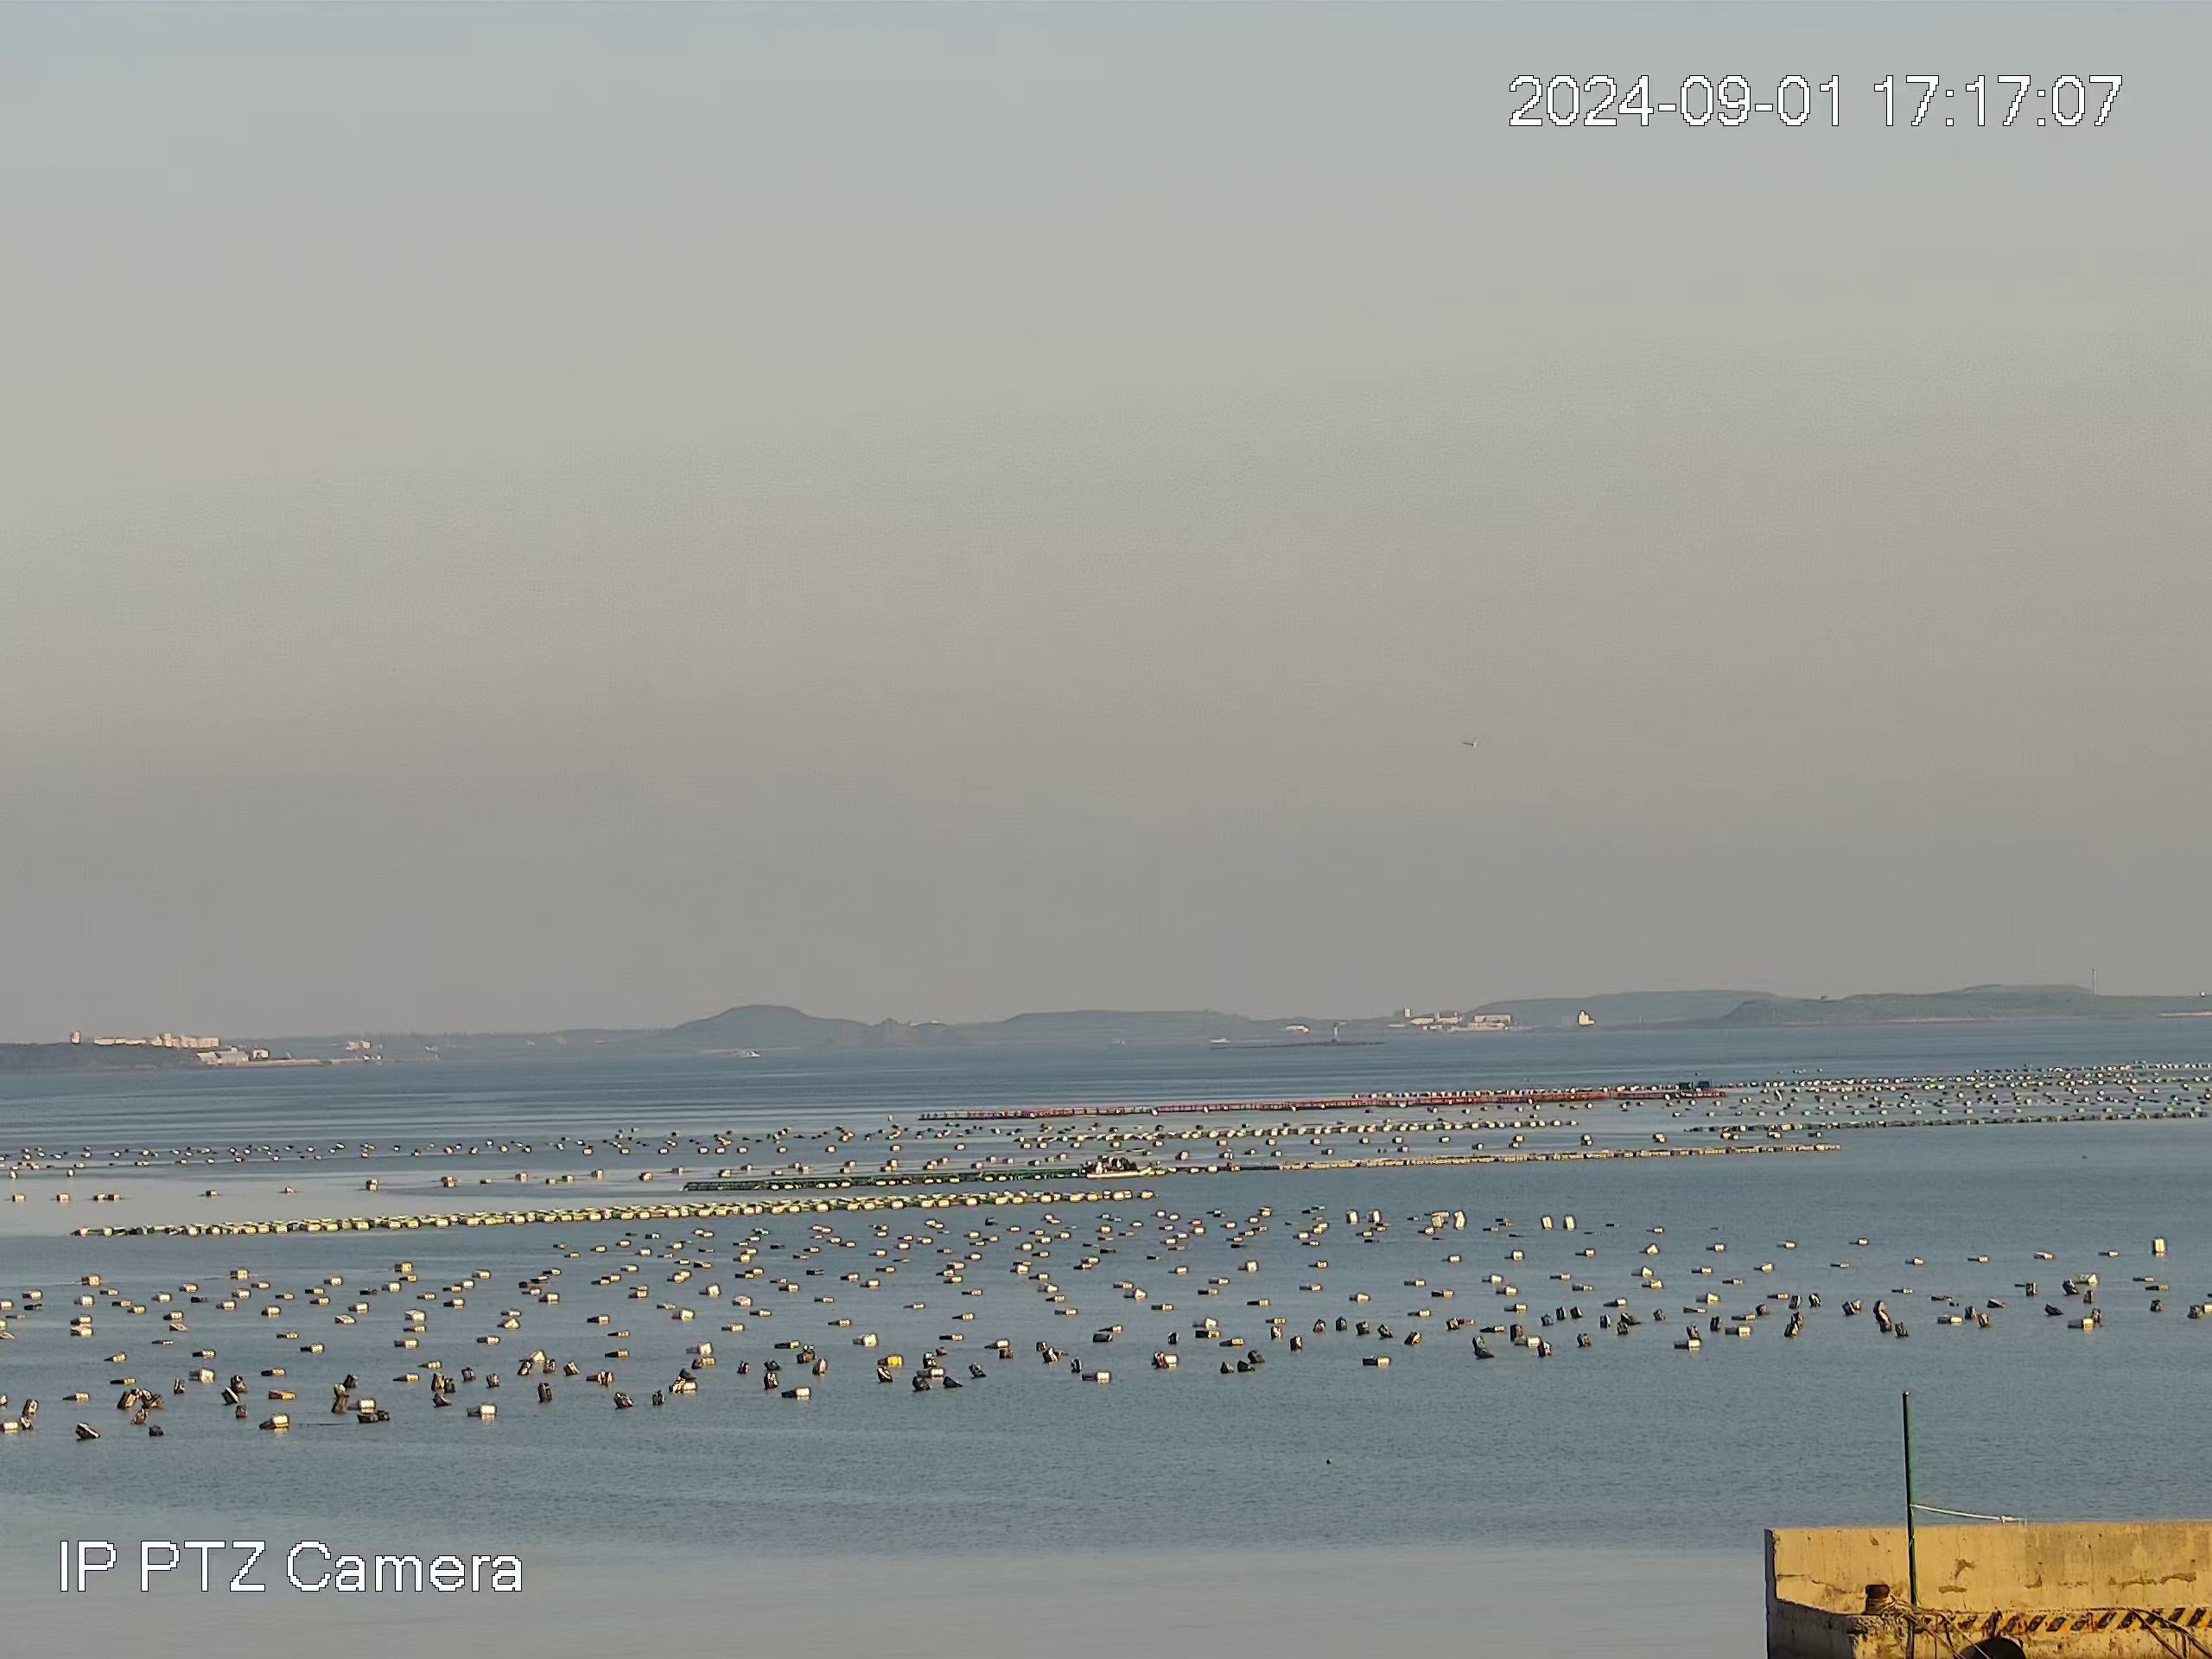boat: (1089, 1150, 1153, 1180)
